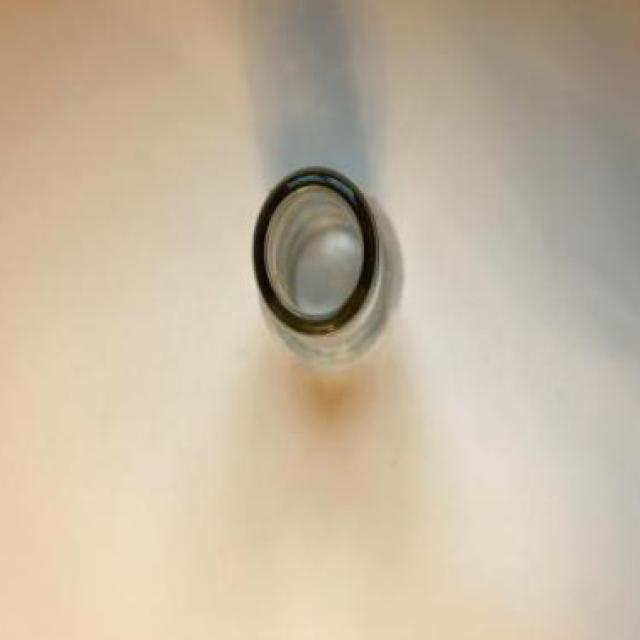kaca: (254, 165, 402, 368)
